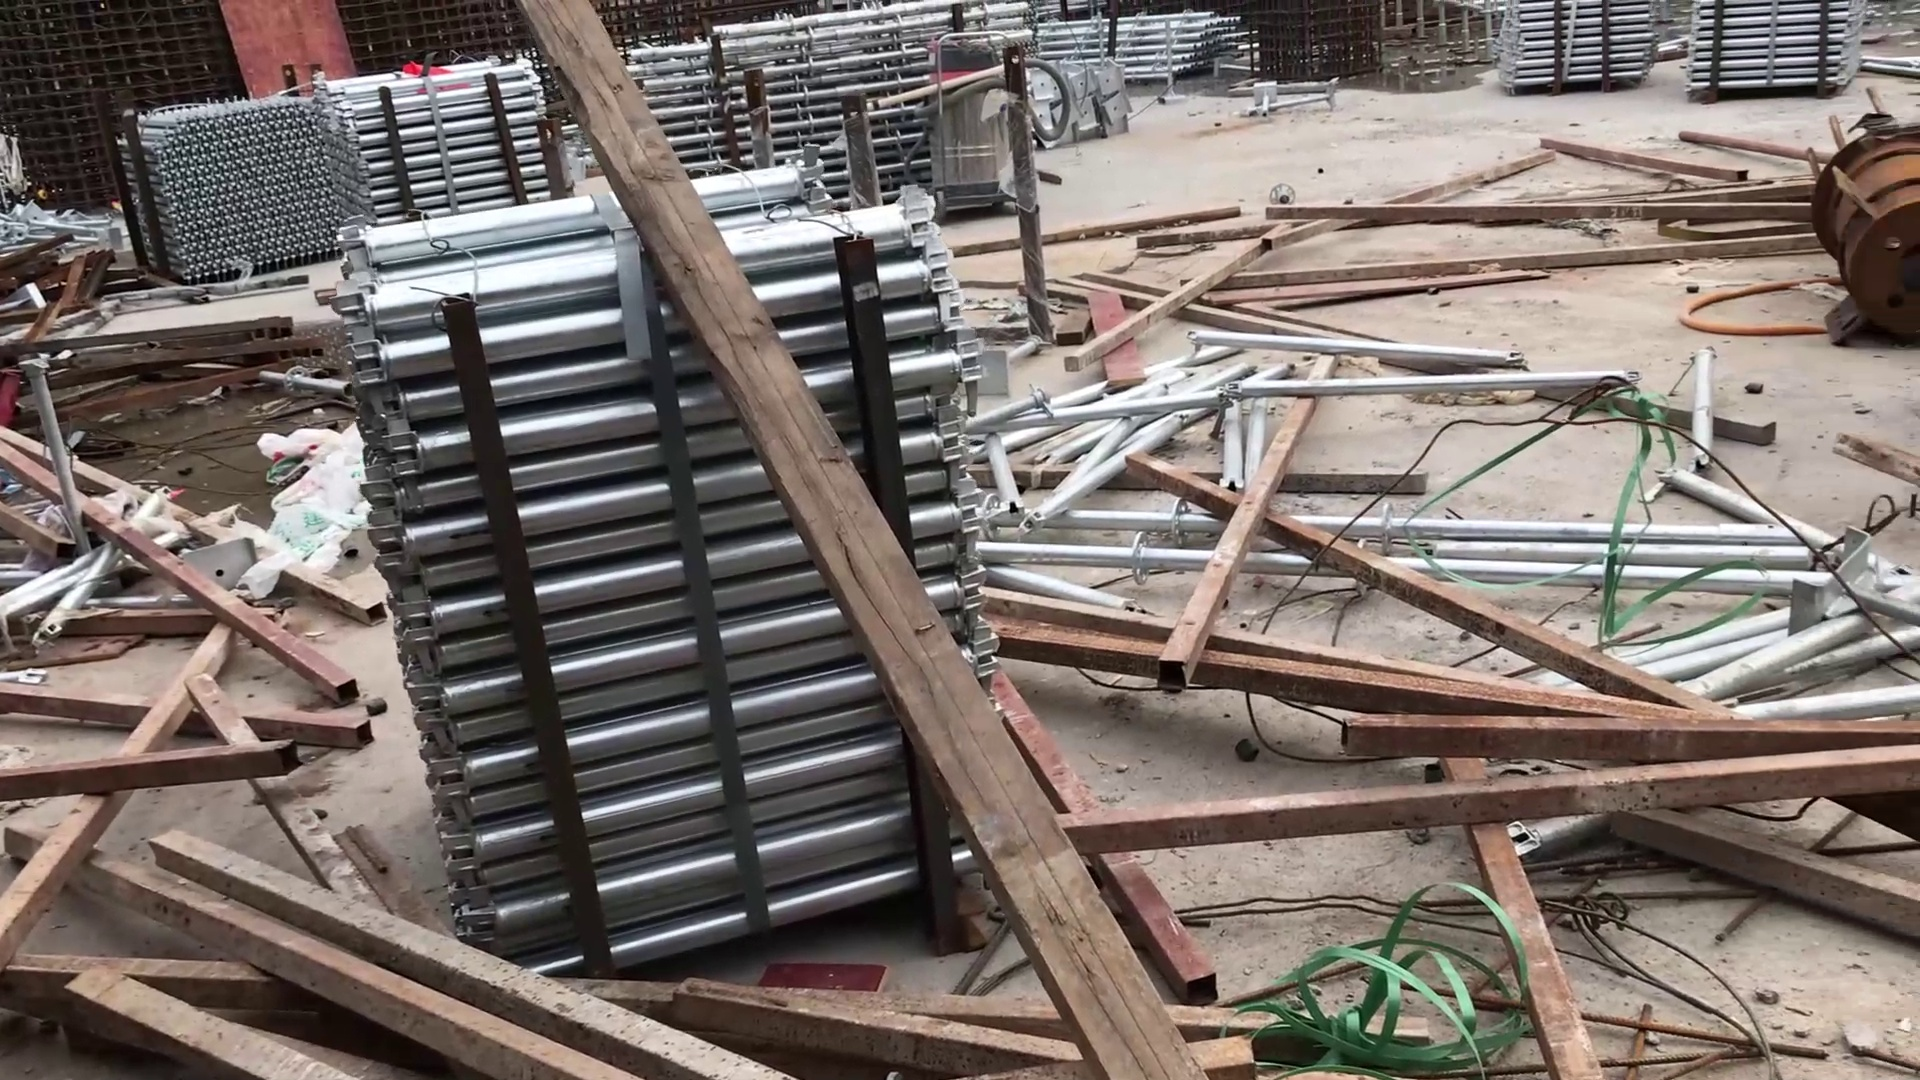scaffold: (330, 177, 986, 916), (629, 11, 936, 162), (117, 90, 340, 266), (315, 69, 564, 212), (1685, 3, 1855, 105), (1472, 4, 1665, 94), (1035, 12, 1251, 90)
